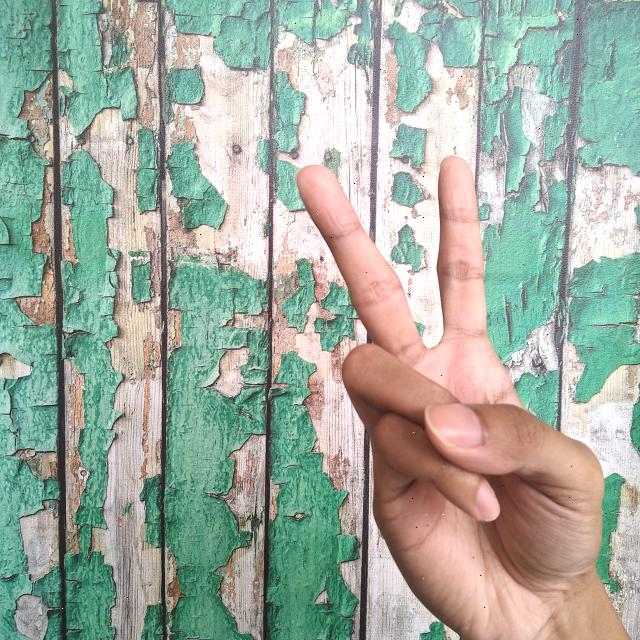V: (290, 146, 634, 640)
